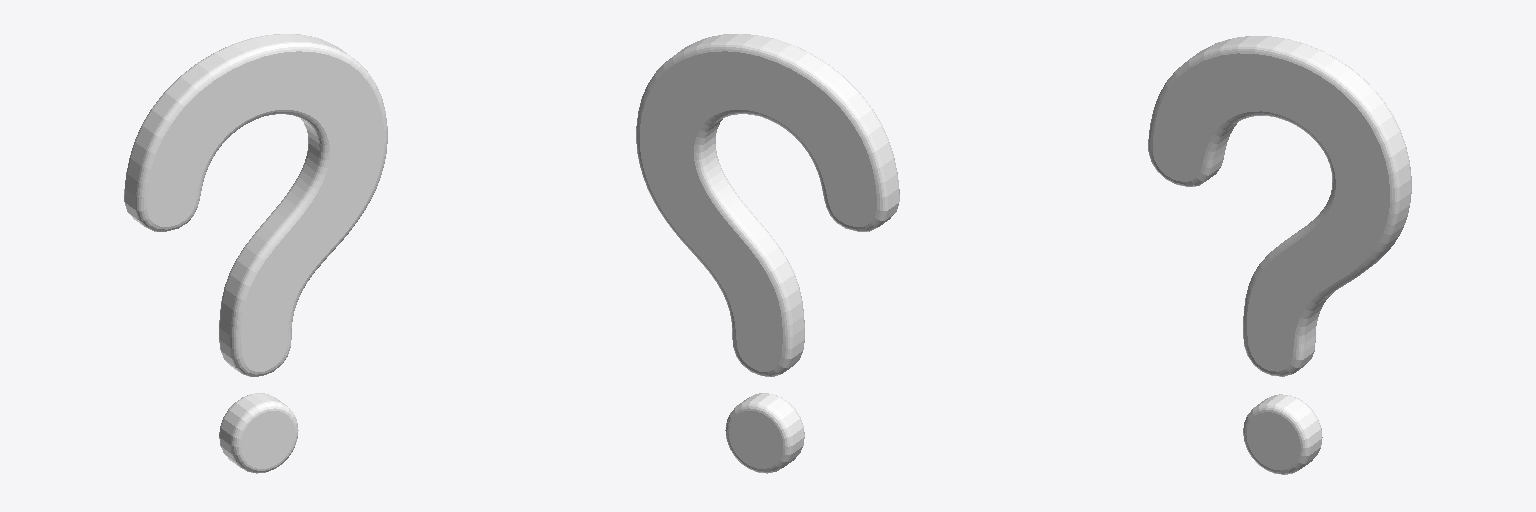
Rendered from Ques.obj.
The picture shows the model from 3 angles: view 1: azimuth 30°, elevation 25°; view 2: azimuth 150°, elevation 25°; view 3: azimuth 330°, elevation 25°; orthographic projection.
Parts seen in each view (by area): view 1: node_id329_mesh_id330; view 2: node_id329_mesh_id330; view 3: node_id329_mesh_id330.
Boxes of the visible parts, x1,y1,x2,y2 form: node_id329_mesh_id330: [124, 34, 387, 473]; node_id329_mesh_id330: [636, 34, 899, 473]; node_id329_mesh_id330: [1148, 36, 1411, 474].
Size of the model in its own units: 0.3159 by 0.512 by 0.0396.